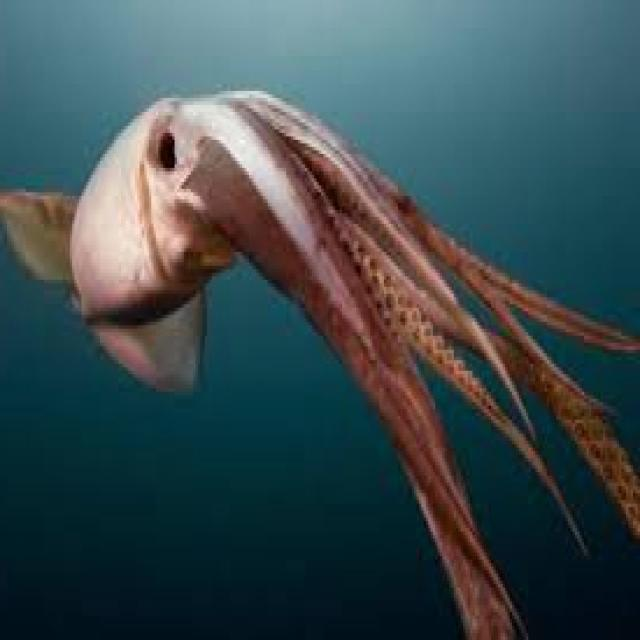squid: (2, 91, 640, 637)
